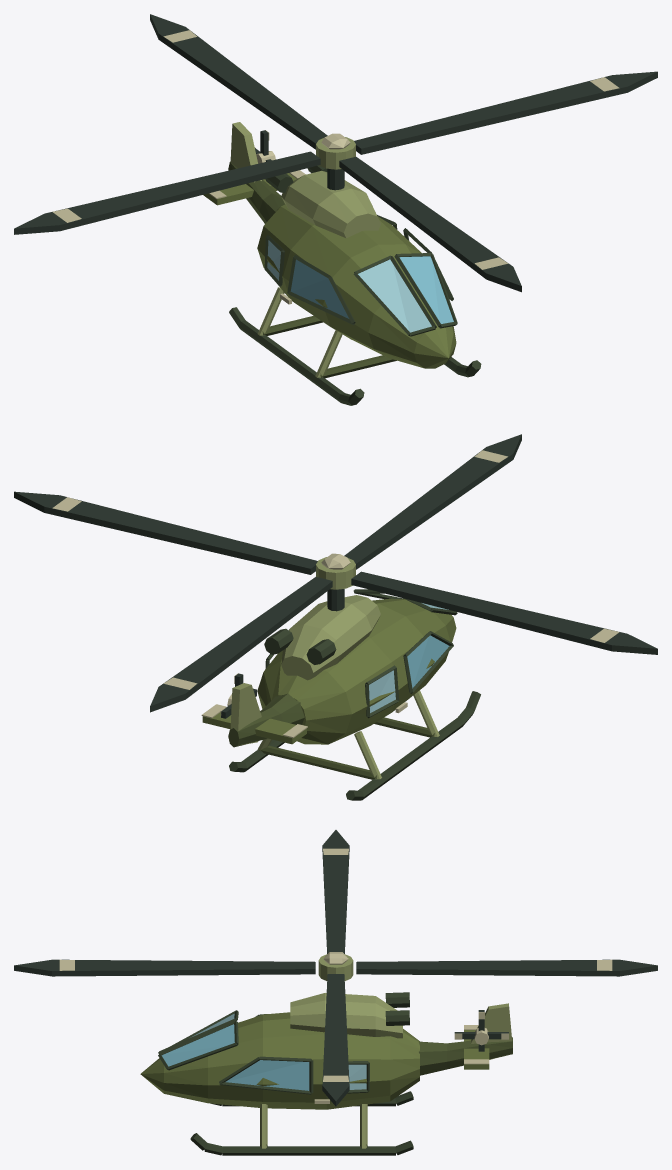
Rendered from helicopter.glb.
The picture shows the model from 3 angles, top to bottom: view 1: azimuth 30°, elevation 25°; view 2: azimuth 150°, elevation 25°; view 3: azimuth 270°, elevation 25°; orthographic projection. The views are drawn at different scales.
Visible parts, largest first — view 1: rotor, body, cockpit, skids, tail; view 2: rotor, body, skids, tail, cockpit; view 3: body, rotor, cockpit, skids, tail, tailRotor.
Part boxes in pixels (x1=…): rotor: x1=14, y1=14, x2=657, y2=292; body: x1=257, y1=165, x2=456, y2=368; cockpit: x1=264, y1=215, x2=457, y2=336; skids: x1=229, y1=287, x2=481, y2=405; tail: x1=203, y1=122, x2=305, y2=223; rotor: x1=14, y1=434, x2=657, y2=712; body: x1=257, y1=589, x2=456, y2=744; skids: x1=229, y1=690, x2=480, y2=800; tail: x1=201, y1=683, x2=307, y2=747; cockpit: x1=265, y1=589, x2=457, y2=718; body: x1=140, y1=992, x2=419, y2=1109; rotor: x1=14, y1=830, x2=657, y2=1106; cockpit: x1=158, y1=1010, x2=369, y2=1103; skids: x1=190, y1=1091, x2=413, y2=1155; tail: x1=419, y1=1003, x2=512, y2=1075; tailRotor: x1=454, y1=1010, x2=508, y2=1051.
Bounding box in the file's own units: 7.6 × 2.3 × 7.6.
